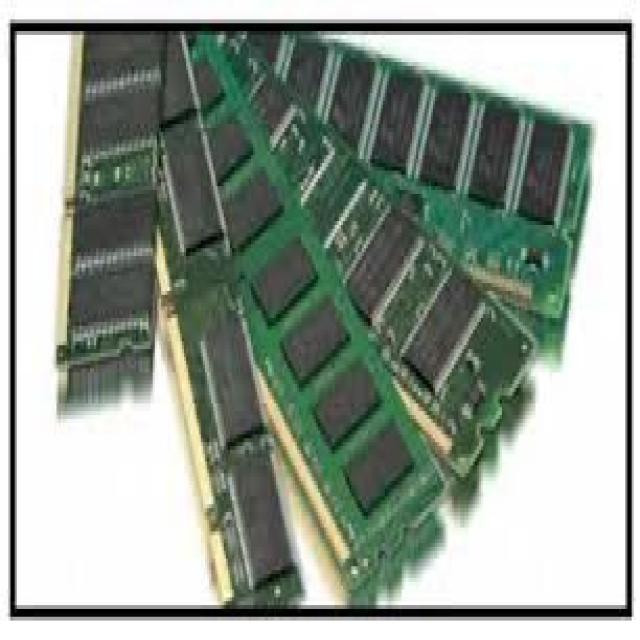Ram: (52, 42, 512, 537)
